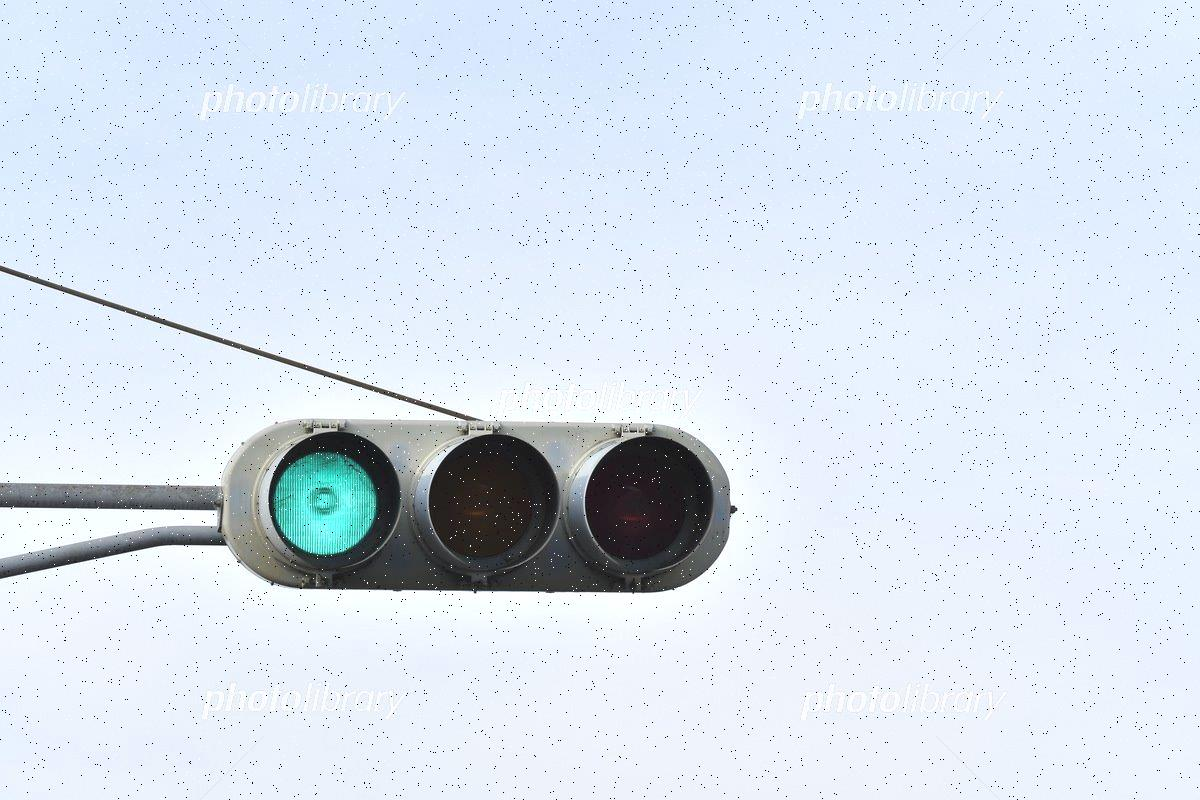cars: (228, 418, 733, 589)
